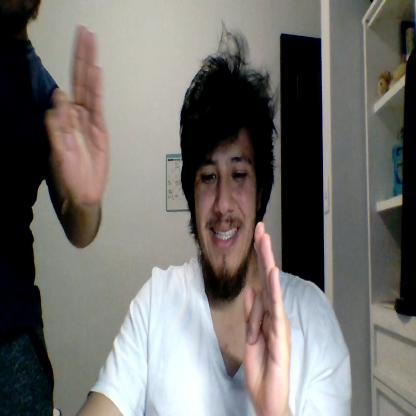F: (46, 23, 109, 206), (243, 220, 290, 416)
